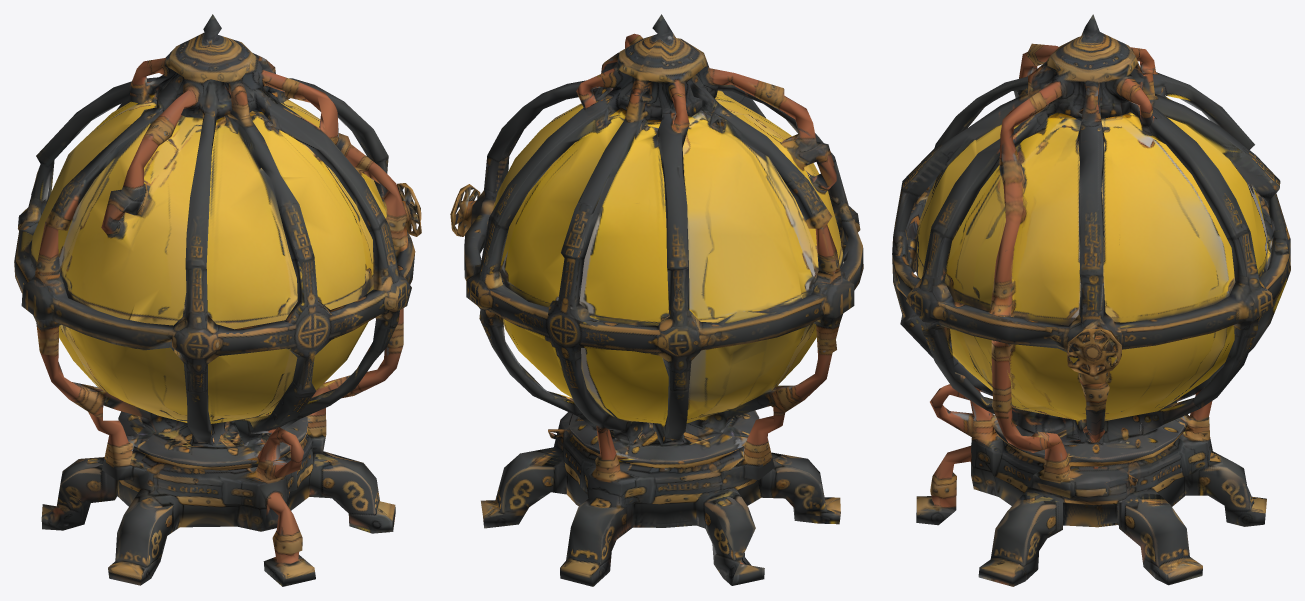
The model's file is PR_HyeonmuCore.fbx.
3 views of the same model, side by side, from view 1: azimuth 30°, elevation 25°; view 2: azimuth 150°, elevation 25°; view 3: azimuth 270°, elevation 25° (orthographic).
Parts seen in each view (by area): view 1: texture_mapping; view 2: texture_mapping; view 3: texture_mapping.
Boxes of the visible parts, bbox=[...] form: texture_mapping: bbox=[14, 14, 421, 586]; texture_mapping: bbox=[450, 14, 863, 586]; texture_mapping: bbox=[892, 14, 1290, 586].
Size of the model in its own units: 0.7855 by 0.7133 by 1.
Materials: 1 (1 with a texture image).
